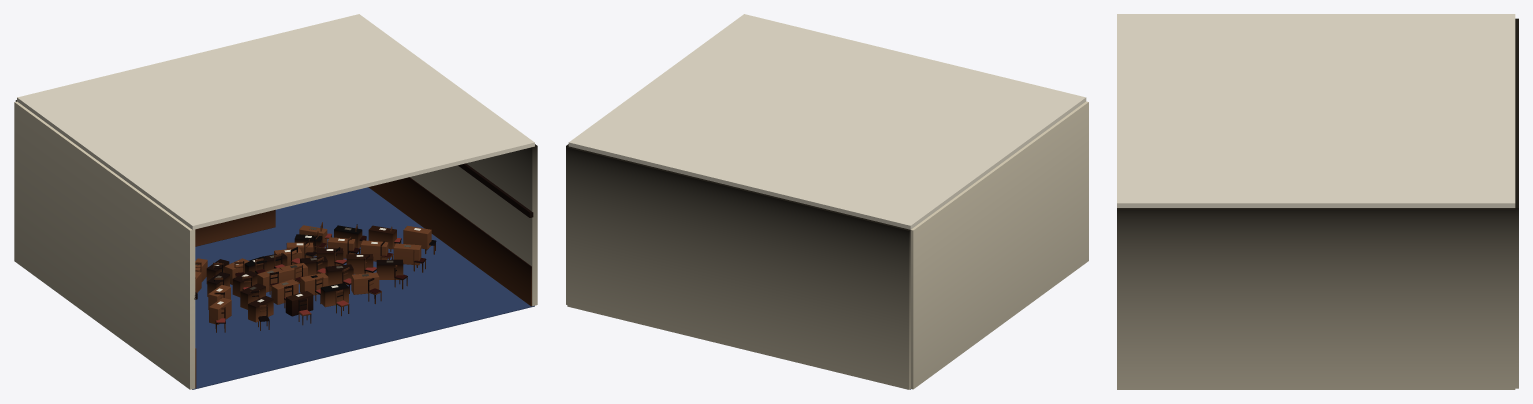
Rendered from state.glb.
The picture shows the model from 3 angles, left to right: view 1: azimuth 30°, elevation 25°; view 2: azimuth 150°, elevation 25°; view 3: azimuth 270°, elevation 25°; orthographic projection. The views are drawn at different scales.
Visible parts, largest first — view 1: state.plaster.2, state.plaster.1, state.fabric.0, state.plank.4, state.plank.3, state.plank.5, state.fabric.10, state.paper.11; view 2: state.plaster.1, state.plaster.2; view 3: state.plaster.2, state.plaster.1.
Part boxes in pixels (bbox=[...]): state.plaster.2: bbox=[17, 14, 534, 229]; state.plaster.1: bbox=[14, 100, 537, 389]; state.fabric.0: bbox=[192, 187, 534, 389]; state.plank.4: bbox=[194, 163, 533, 324]; state.plank.3: bbox=[195, 177, 531, 388]; state.plank.5: bbox=[195, 222, 436, 332]; state.fabric.10: bbox=[213, 233, 435, 322]; state.paper.11: bbox=[195, 227, 420, 304]; state.plaster.1: bbox=[566, 101, 1088, 389]; state.plaster.2: bbox=[568, 14, 1086, 229]; state.plaster.2: bbox=[1117, 14, 1515, 207]; state.plaster.1: bbox=[1117, 18, 1518, 389].
Bounding box in the file's own units: 18.28 × 8.24 × 16.14.
